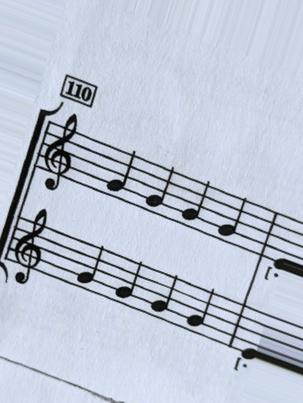note: (97, 134, 139, 211), (141, 150, 178, 223), (215, 185, 251, 252), (71, 233, 107, 299), (176, 167, 207, 242), (114, 250, 147, 318), (185, 279, 217, 346), (150, 263, 179, 330)
